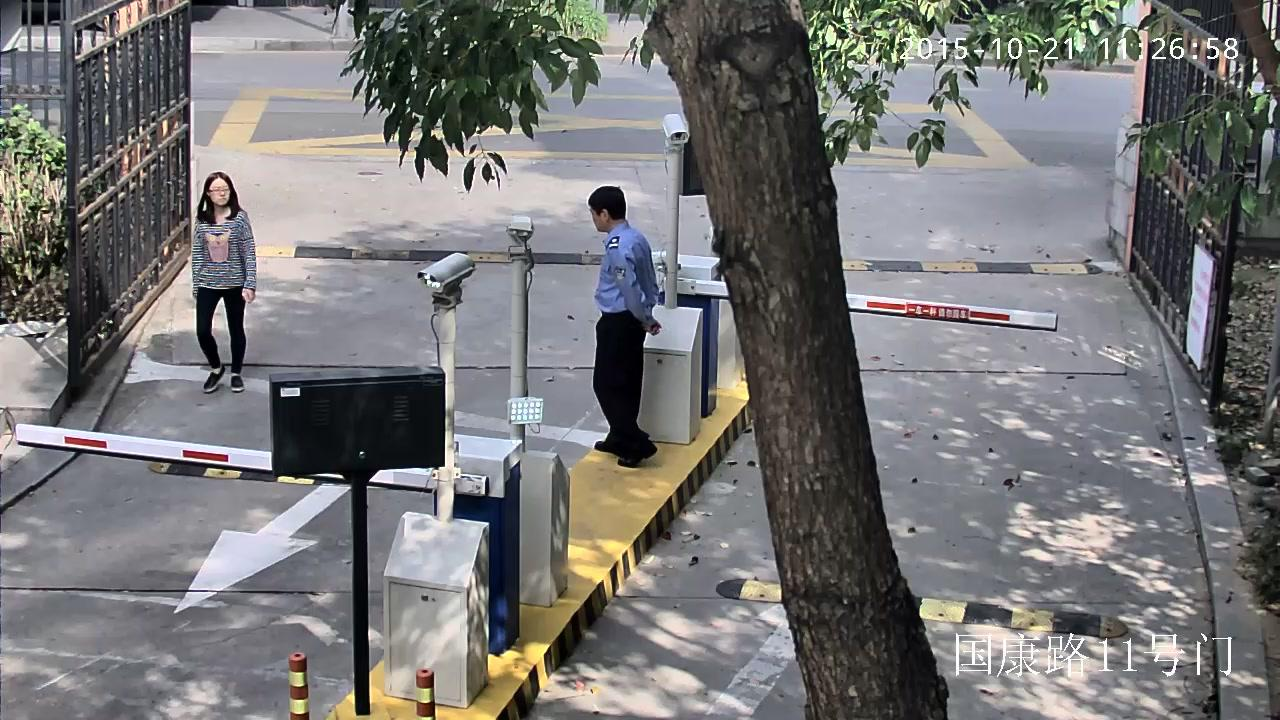person: (587, 186, 662, 465), (187, 171, 257, 394)
